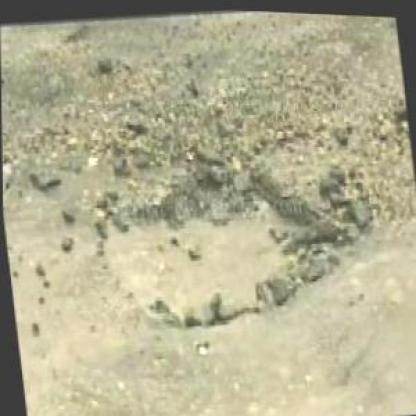pothole: (89, 143, 351, 341)
